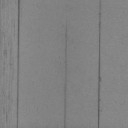surface scratch: (62, 20, 68, 128), (16, 0, 21, 128), (98, 2, 101, 128)
